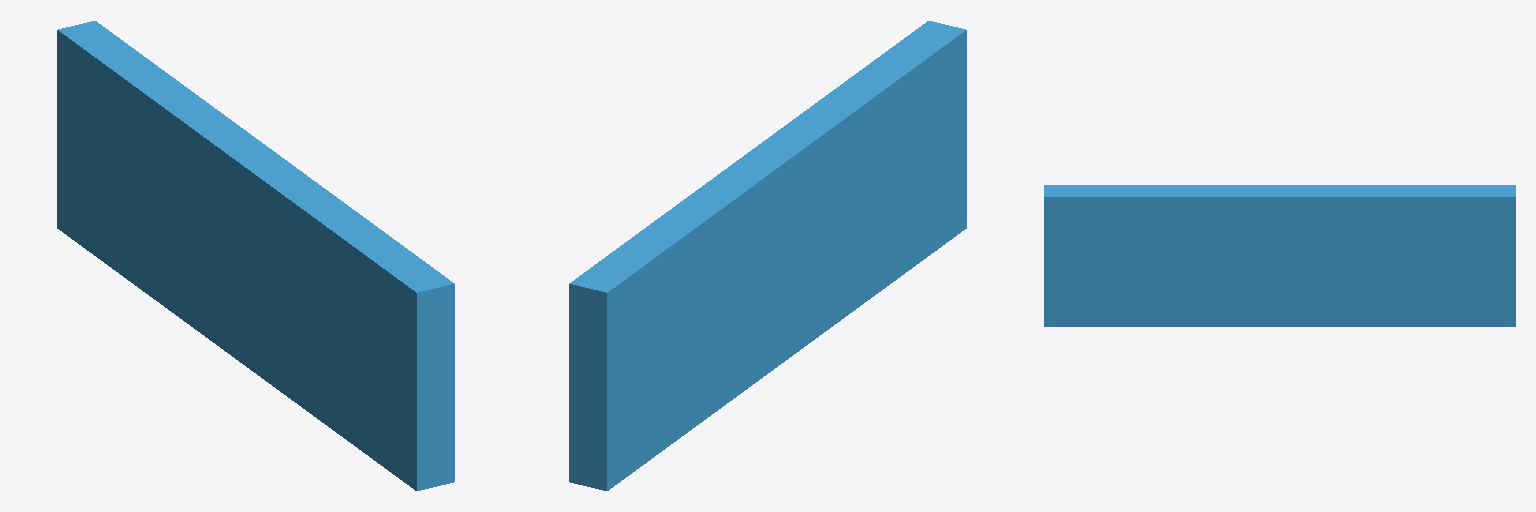
URDF robot description (box_78):
<?xml version="1.0" encoding="utf-8"?>    
    
    <robot name="box_78">
        <link name="box_78">    
            <fem>
                <origin rpy="0.0 0.0 0.0" xyz="0 0 0" />
                <density value="100" />
                <youngs value="8083"/>
                <poissons value="0.3"/>
                <damping value="0.0" /> 
                <attachDistance value="0.01"/>
                <tetmesh filename="../../../../Custom_mesh/physical_dvrk/multi_box_10kPa/box_78.tet"/>
                <scale value="1.0"/>
            </fem>
        </link>
        
        <link name="fix_frame">
            <visual>
                <origin xyz="-10.069 0.0 0.0"/>              
                <geometry>
                    <box size="0.005 0.082 0.025"/>
                </geometry>
            </visual>
            <collision>
                <origin xyz="-0.069 0.0 0.0"/>              
                <geometry>
                    <box size="0.005 0.082 0.025"/>
                </geometry>
            </collision>
            <inertial>
                <mass value="500000"/>
                <inertia ixx="0.05" ixy="0.0" ixz="0.0" iyy="0.05" iyz="0.0" izz="0.05"/>
            </inertial>
        </link>
        
        <joint name = "attach" type = "fixed">
            <origin xyz = "0.0 0.0 0.0" rpy = "0 0 0"/>
            <parent link = "box_78"/>
            <child link = "fix_frame"/>
        </joint>  
        
    </robot>
    

--- Render facts (derived) ---
Views: 3 orthographic renders of the robot side by side, from view 1: azimuth 30°, elevation 25°; view 2: azimuth 150°, elevation 25°; view 3: azimuth 270°, elevation 25°.
Model box_78 with 2 links and 1 joints (1 fixed), rooted at box_78, posed all joints at 0.
Visible links, largest first — view 1: fix_frame; view 2: fix_frame; view 3: fix_frame.
Link boxes in pixels (left/top/right/bottom): fix_frame: left=57, top=21, right=454, bottom=490; fix_frame: left=569, top=21, right=966, bottom=490; fix_frame: left=1044, top=185, right=1515, bottom=326.
Bounding box of the posed robot: 0.005 × 0.082 × 0.025 m (x, y, z).
Geometry: primitives only (box / cylinder / sphere), no mesh files.